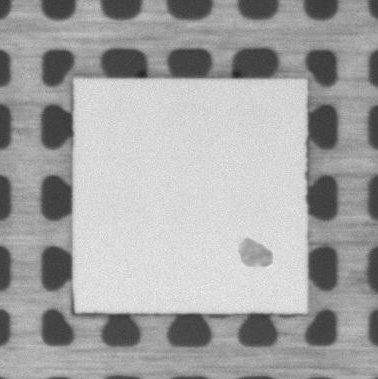DIE_INK: (232, 234, 276, 272)
